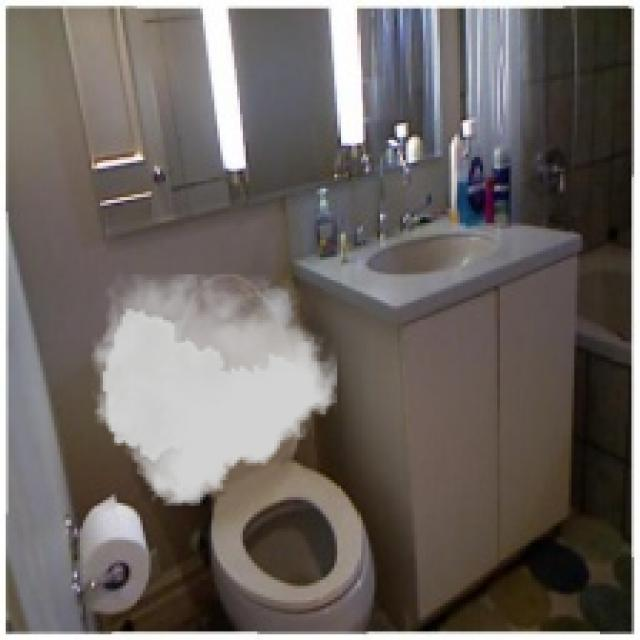smoke: (92, 274, 337, 506)
